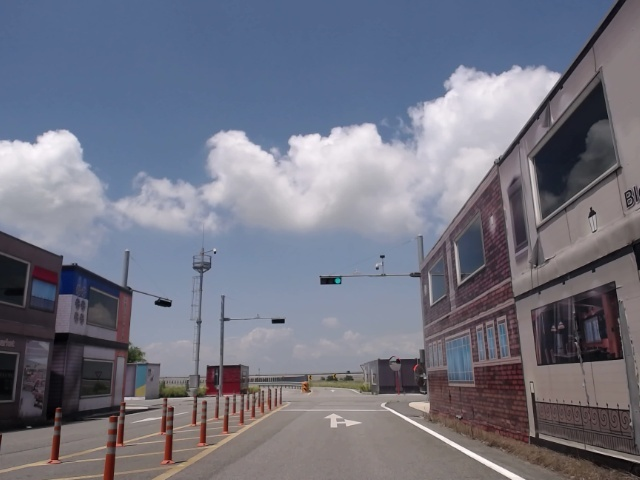green_3: (321, 277, 342, 285)
